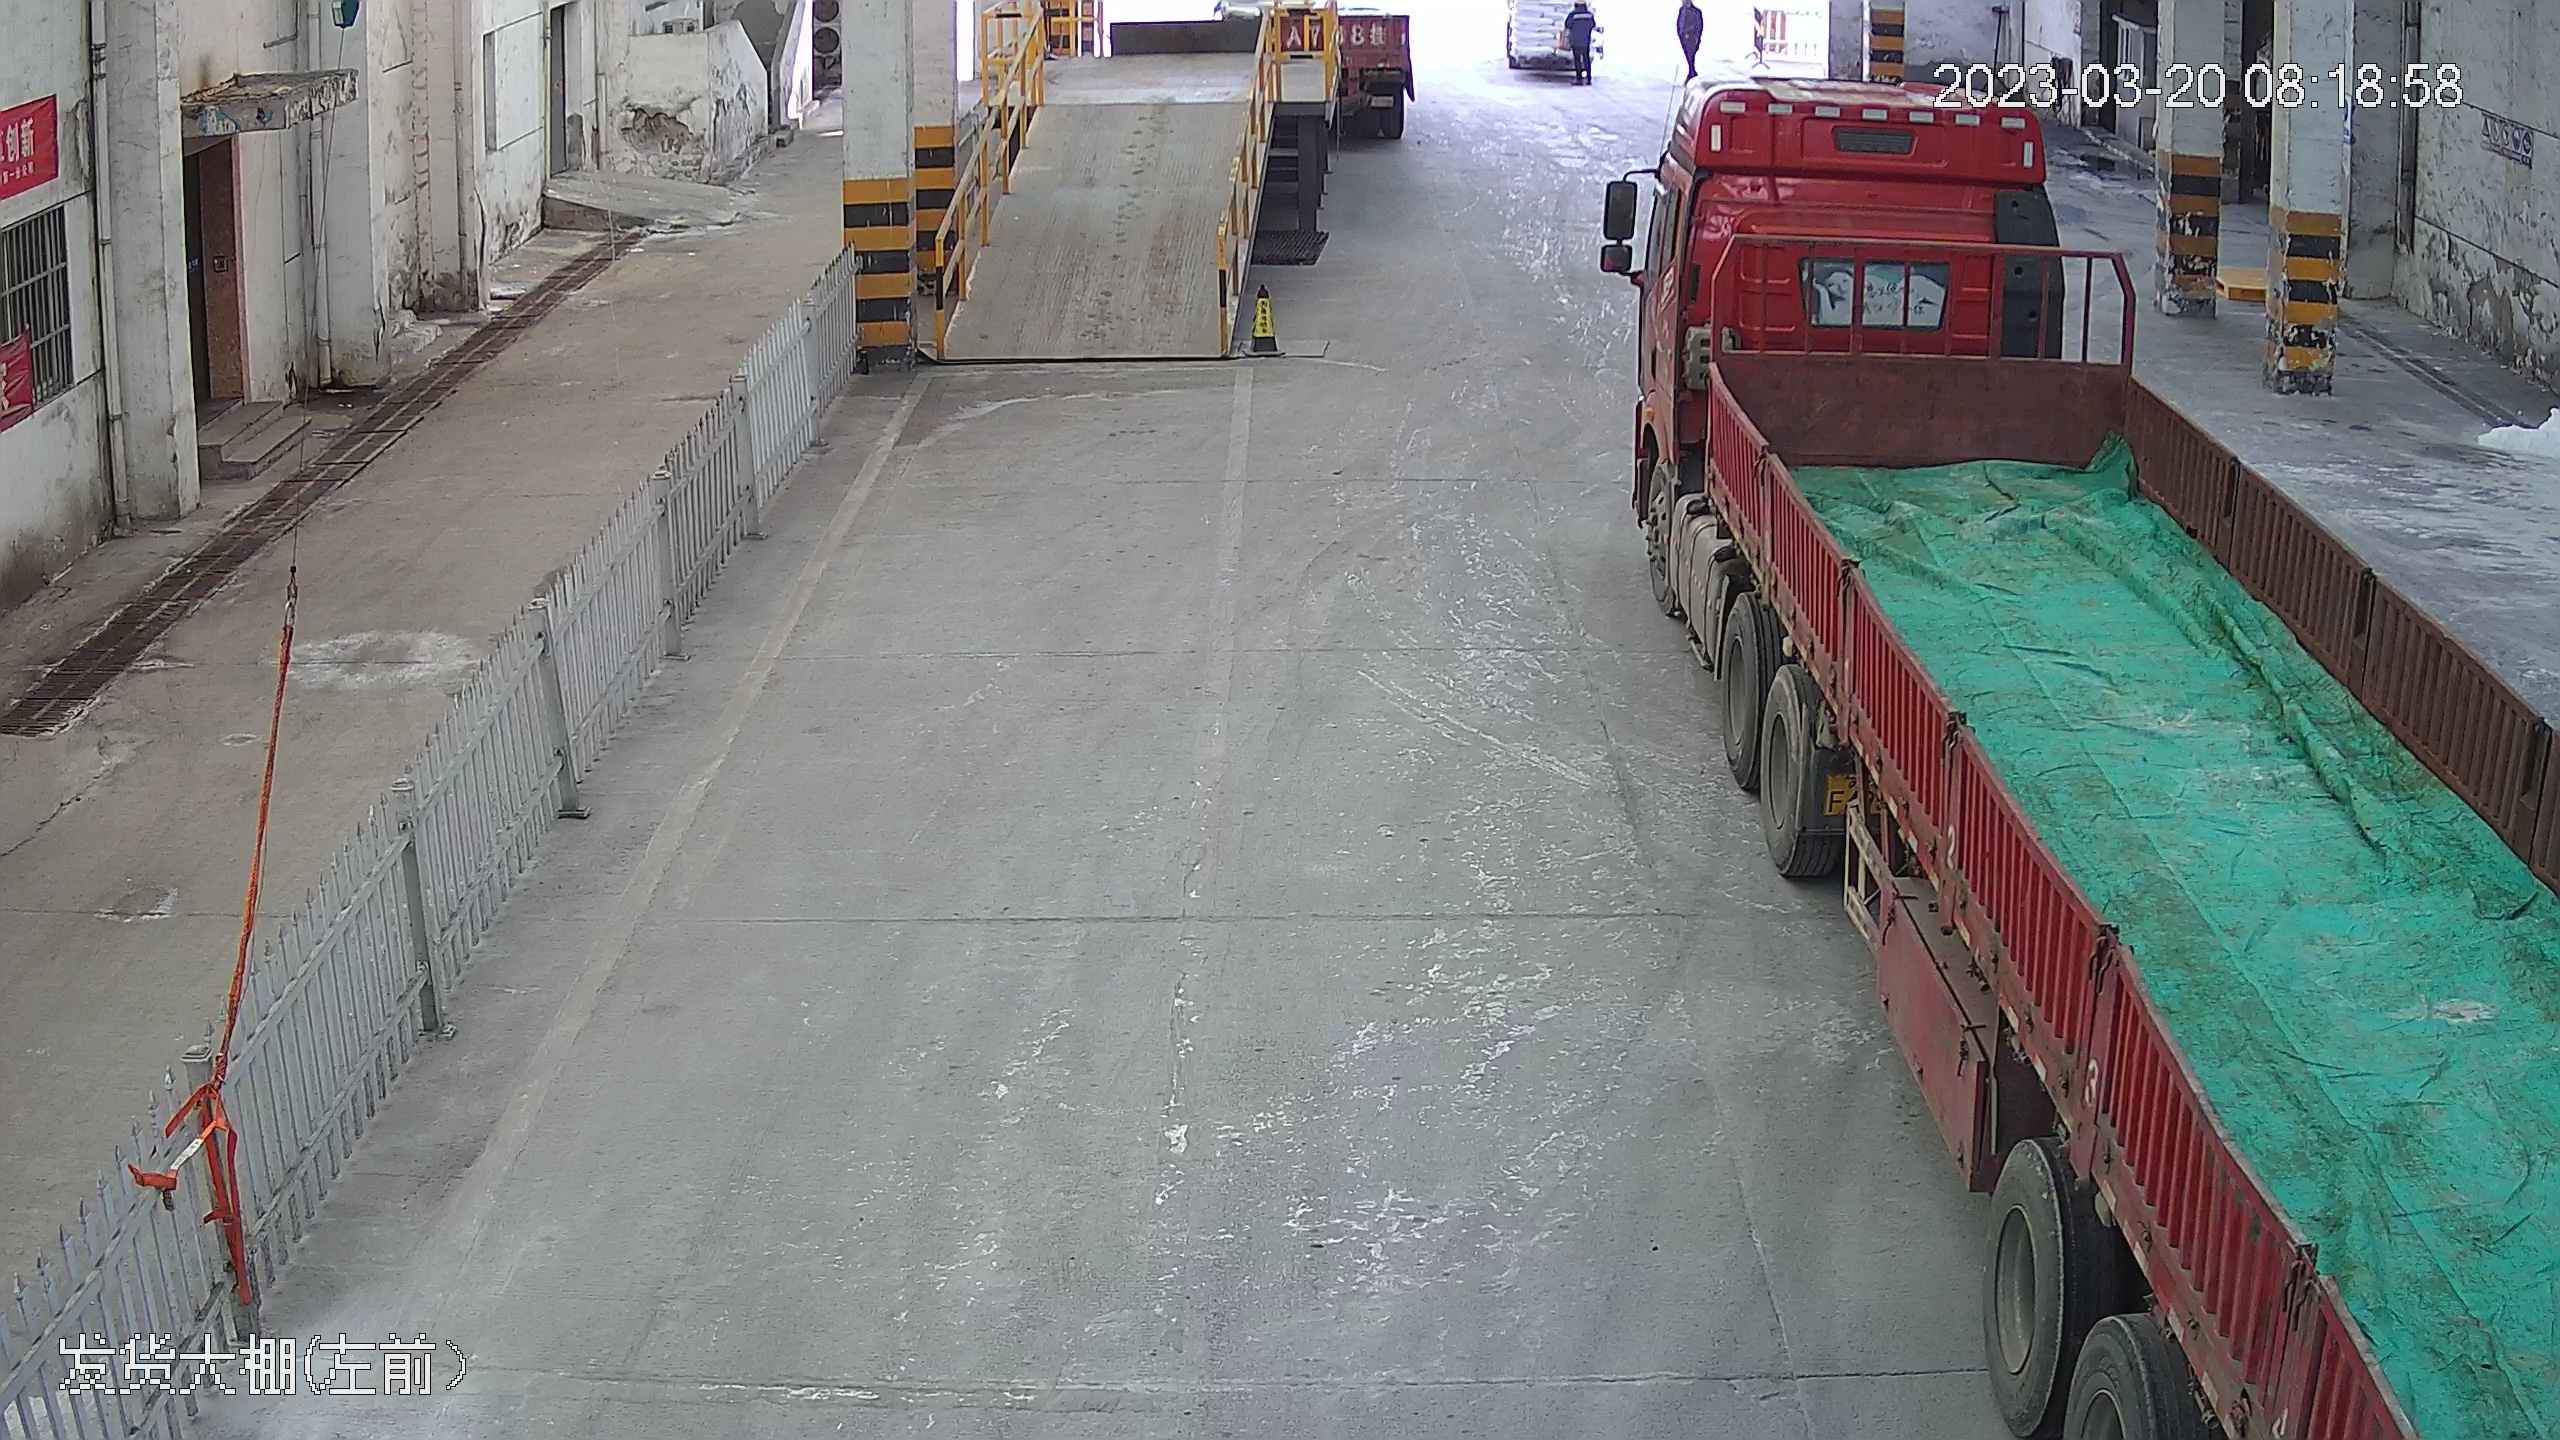head: (1676, 0, 1705, 17)
people: (1671, 0, 1708, 84), (1567, 0, 1604, 79)
truck: (1611, 50, 2560, 1440)
